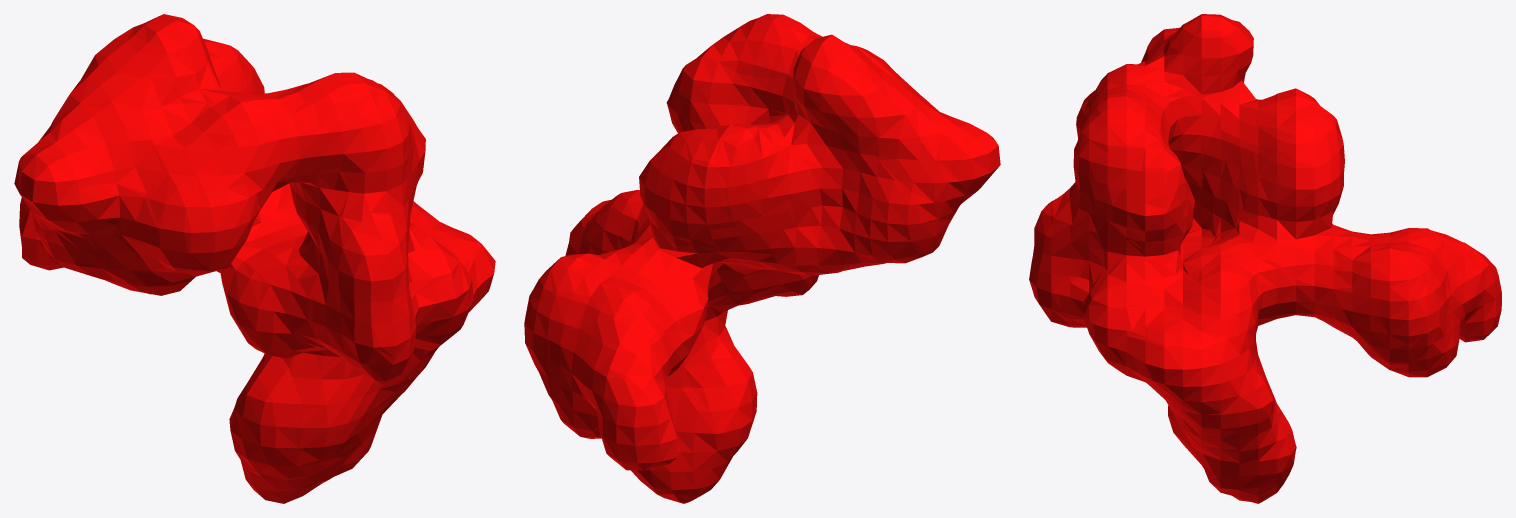
Rendered from mazG_coarse.dae.
The picture shows the model from 3 angles, left to right: view 1: azimuth 30°, elevation 25°; view 2: azimuth 150°, elevation 25°; view 3: azimuth 270°, elevation 25°; orthographic projection. The views are drawn at different scales.
Parts seen in each view (by area): view 1: mazG; view 2: mazG; view 3: mazG.
Boxes of the visible parts, bbox=[...] form: mazG: bbox=[14, 14, 495, 503]; mazG: bbox=[524, 14, 1000, 503]; mazG: bbox=[1029, 14, 1501, 503].
Bounding box in the file's own units: 67.29 × 73.84 × 73.54.
